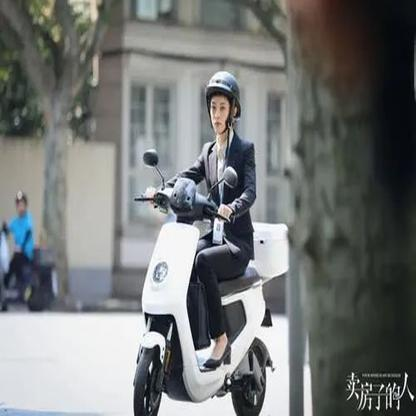target: (131, 68, 290, 405)
